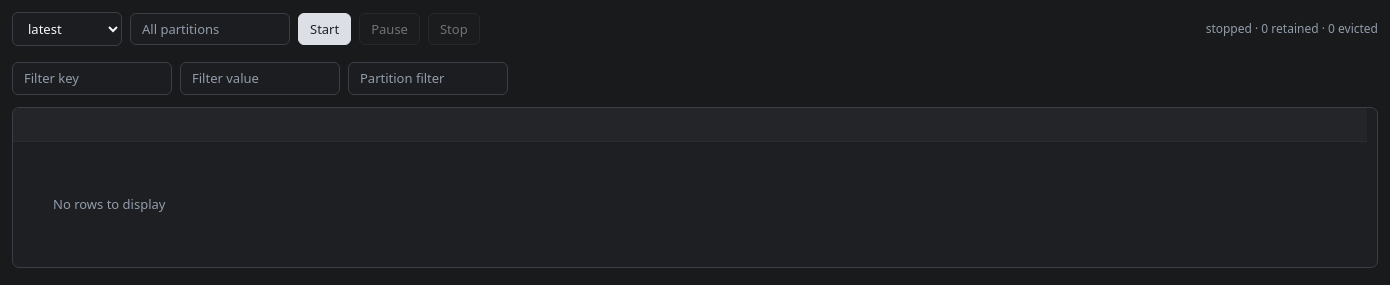
Test: Messages › stops a session whose start response arrives after its channel reports failure
Click the button "Start" at coordinates (325, 29), box x1=298 y1=13 x2=351 y2=45
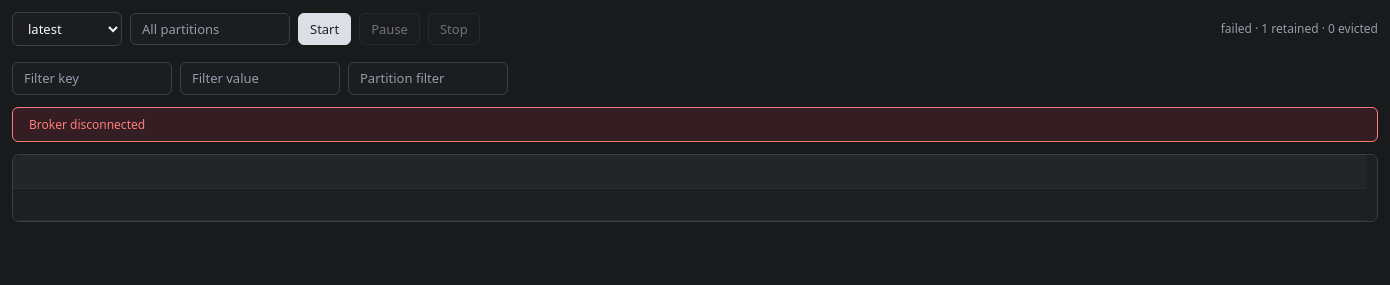
Expected: the button "Pause" is disabled, x1=359 y1=13 x2=420 y2=45
Result: the text "failed · 1 retained · 0 evicted" is shown at x1=1221 y1=20 x2=1378 y2=38
